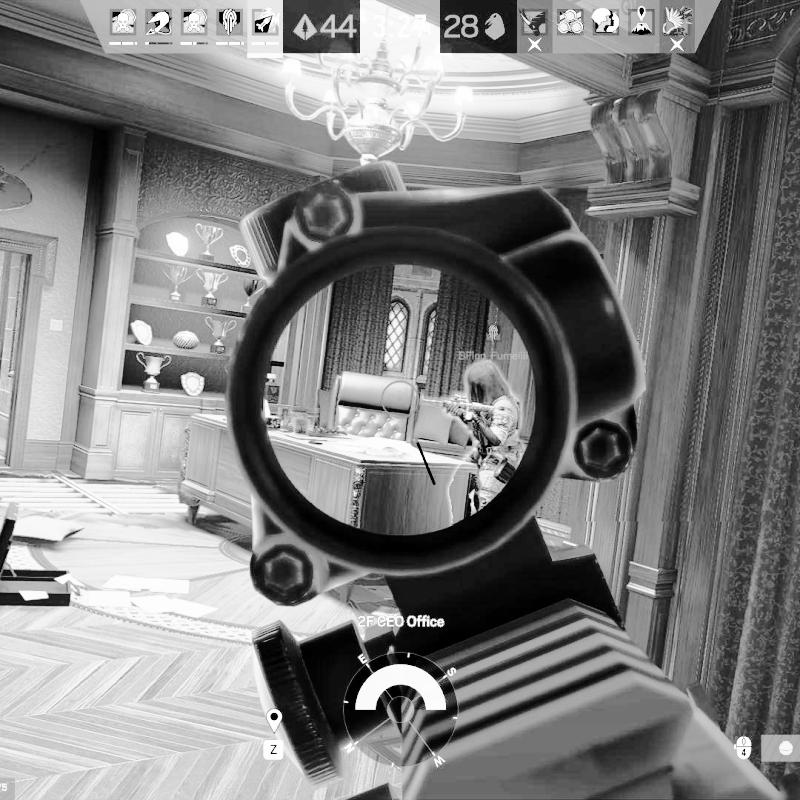Character: (434, 359, 526, 524)
Friend_label: (458, 323, 529, 361)
Head: (465, 361, 508, 405)
